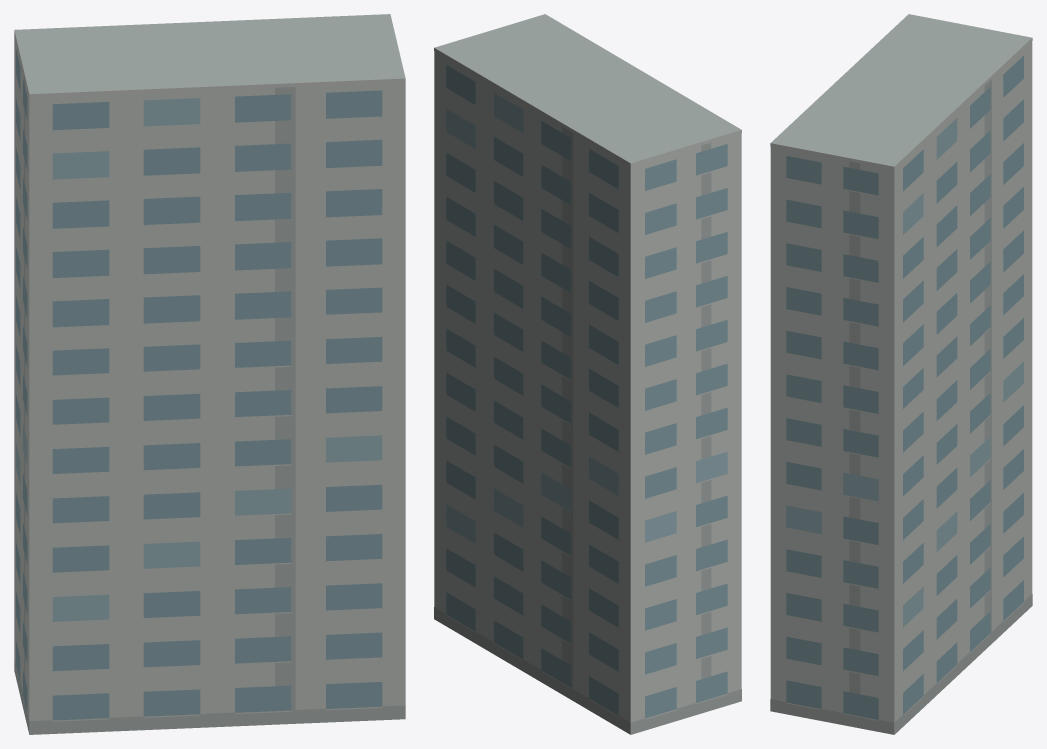
The model's file is residential-324efa0e-edcd-4aa9-b9fd-c72efbeaf104.glb.
3 views of the same model, side by side, from view 1: azimuth 30°, elevation 25°; view 2: azimuth 150°, elevation 25°; view 3: azimuth 270°, elevation 25° (orthographic). The views are drawn at different scales.
Visible parts, largest first — view 1: residential-324efa0e-edcd-4aa9-b9fd-c72efbeaf104.tmp; view 2: residential-324efa0e-edcd-4aa9-b9fd-c72efbeaf104.tmp; view 3: residential-324efa0e-edcd-4aa9-b9fd-c72efbeaf104.tmp.
Part boxes in pixels (<box>): residential-324efa0e-edcd-4aa9-b9fd-c72efbeaf104.tmp: <box>14,14,405,734</box>; residential-324efa0e-edcd-4aa9-b9fd-c72efbeaf104.tmp: <box>434,14,741,734</box>; residential-324efa0e-edcd-4aa9-b9fd-c72efbeaf104.tmp: <box>770,14,1032,734</box>.
Bounding box in the file's own units: 23.65 × 41 × 17.14.
